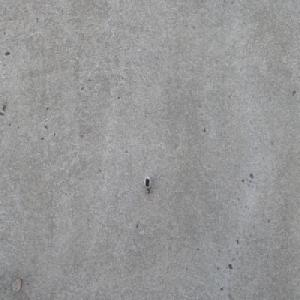MetalPart: (143, 175, 152, 194)
